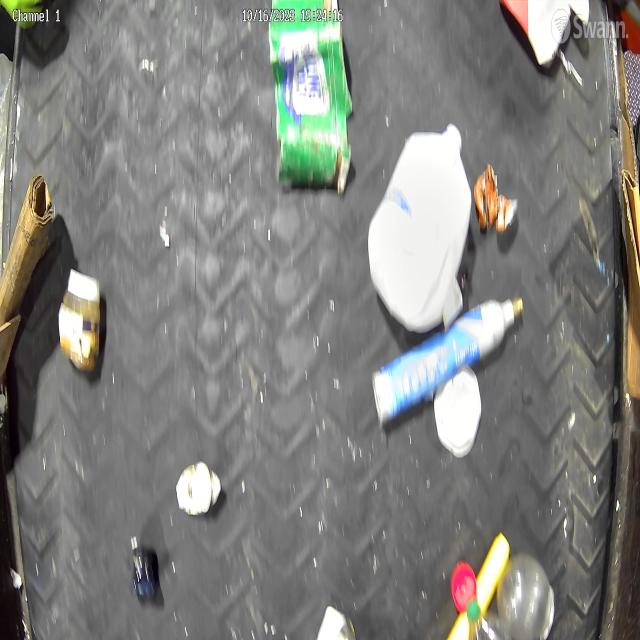milk_jug: (366, 122, 472, 334)
